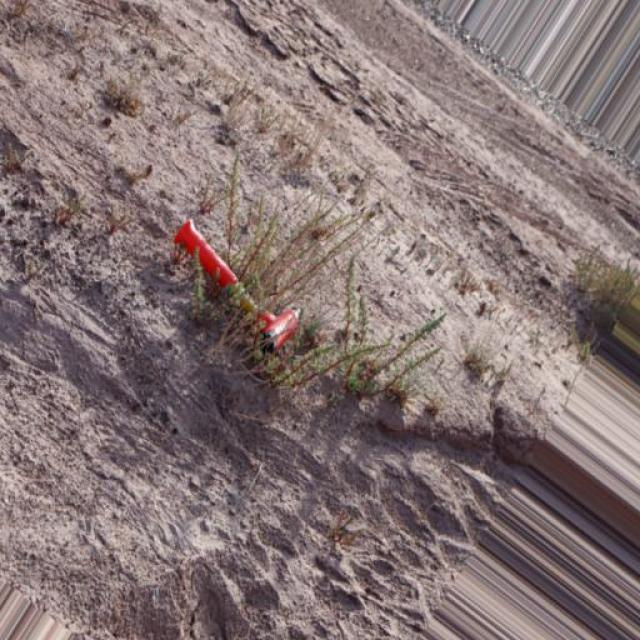mallet: (170, 216, 300, 355)
